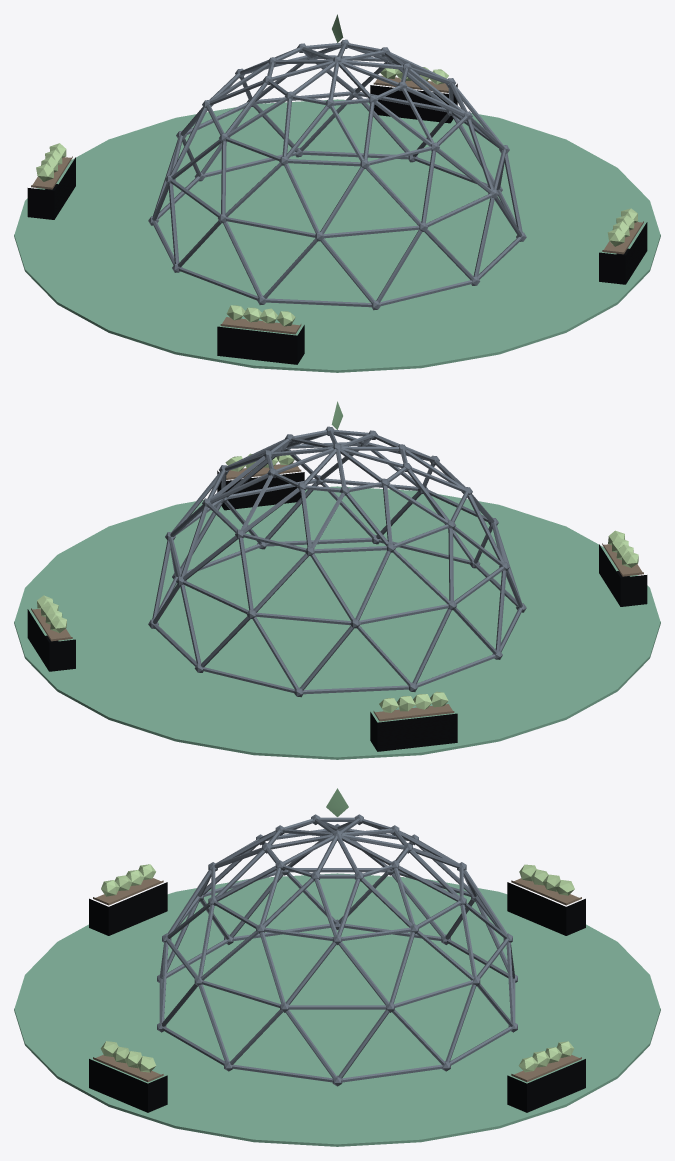
3 views of the same model, one above another, from view 1: azimuth 30°, elevation 25°; view 2: azimuth 150°, elevation 25°; view 3: azimuth 270°, elevation 25° (orthographic).
Visible parts, largest first — view 1: Fall_Zone_Pad, Dome_Frame, Planters, Foliage, Planter_Soil; view 2: Fall_Zone_Pad, Dome_Frame, Planters, Foliage, Planter_Soil; view 3: Fall_Zone_Pad, Dome_Frame, Planters, Foliage, Planter_Soil.
Boxes of the visible parts, x1,y1,x2,y2 form: Fall_Zone_Pad: (14,99,660,372); Dome_Frame: (148,39,526,310); Planters: (27,83,647,364); Foliage: (36,67,638,326); Planter_Soil: (31,75,643,334); Fall_Zone_Pad: (14,486,660,759); Dome_Frame: (148,426,526,697); Planters: (27,470,647,751); Foliage: (37,453,638,712); Planter_Soil: (31,462,643,721); Fall_Zone_Pad: (14,873,660,1146); Dome_Frame: (157,814,517,1086); Planters: (89,882,585,1112); Foliage: (100,864,574,1072); Planter_Soil: (93,878,581,1081).
Size of what is drawn, in the model's own units: 7 by 2.65 by 7.
6 materials, 2 textured.
